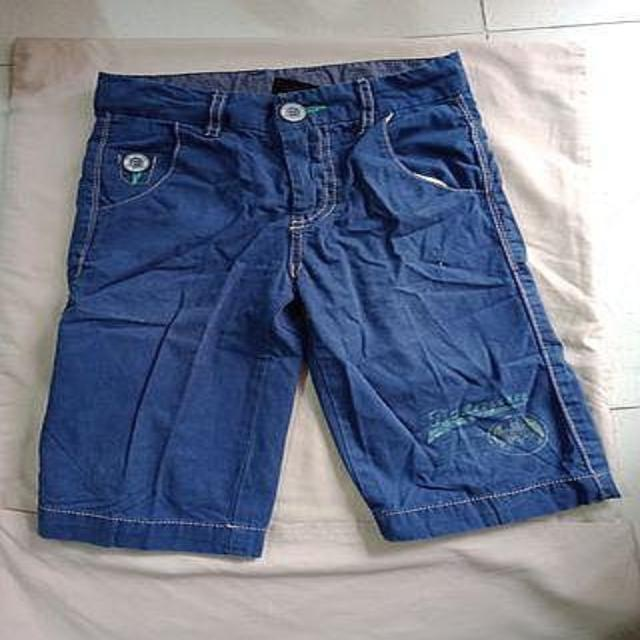SHORT: (21, 51, 640, 566)
